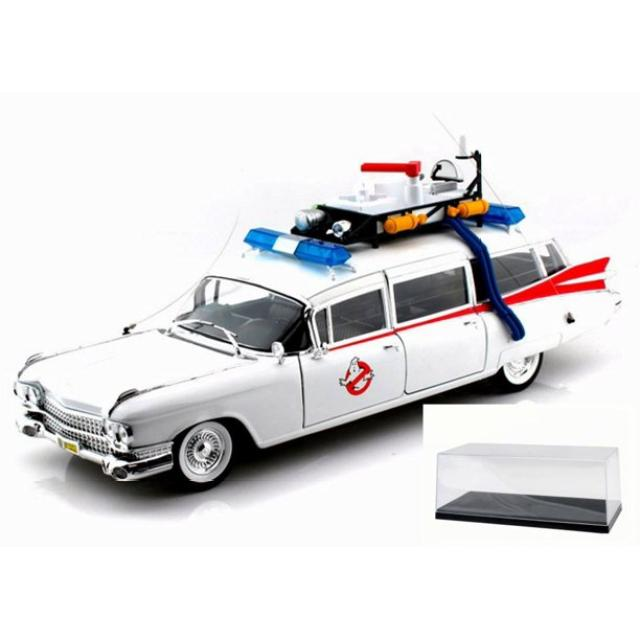Car: (14, 151, 608, 488)
